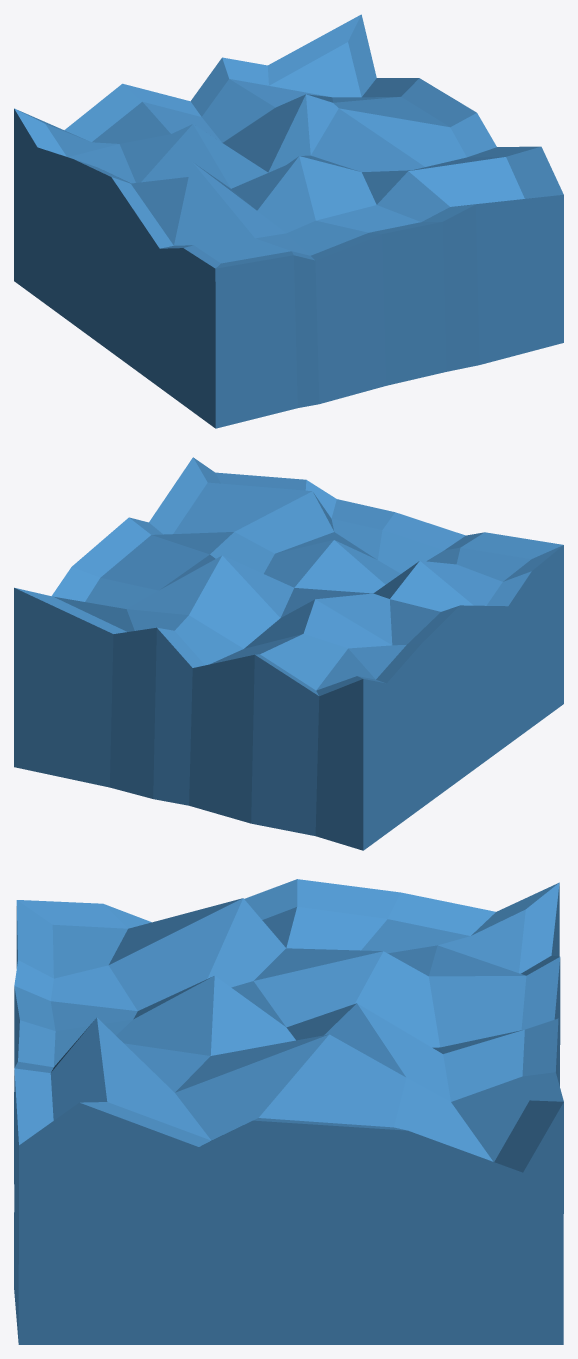
File: Water.fbx
The picture shows the model from 3 angles, top to bottom: view 1: azimuth 30°, elevation 25°; view 2: azimuth 150°, elevation 25°; view 3: azimuth 270°, elevation 25°; orthographic projection. The views are drawn at different scales.
Visible parts, largest first — view 1: Plane.002; view 2: Plane.002; view 3: Plane.002.
Part boxes in pixels (x1,y1,x2,y2): Plane.002: (14, 14, 563, 428); Plane.002: (14, 457, 563, 850); Plane.002: (14, 879, 563, 1344).
Size of the model in its own units: 196 by 102 by 198.
